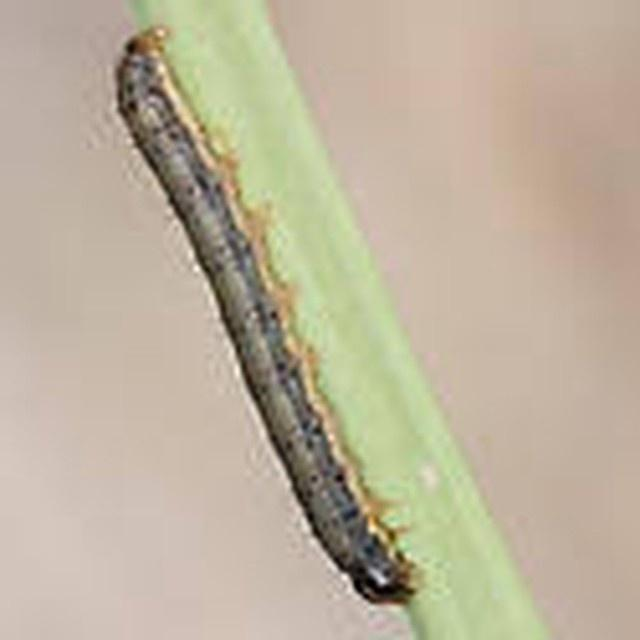gusano_cogollero: (107, 23, 426, 610)
